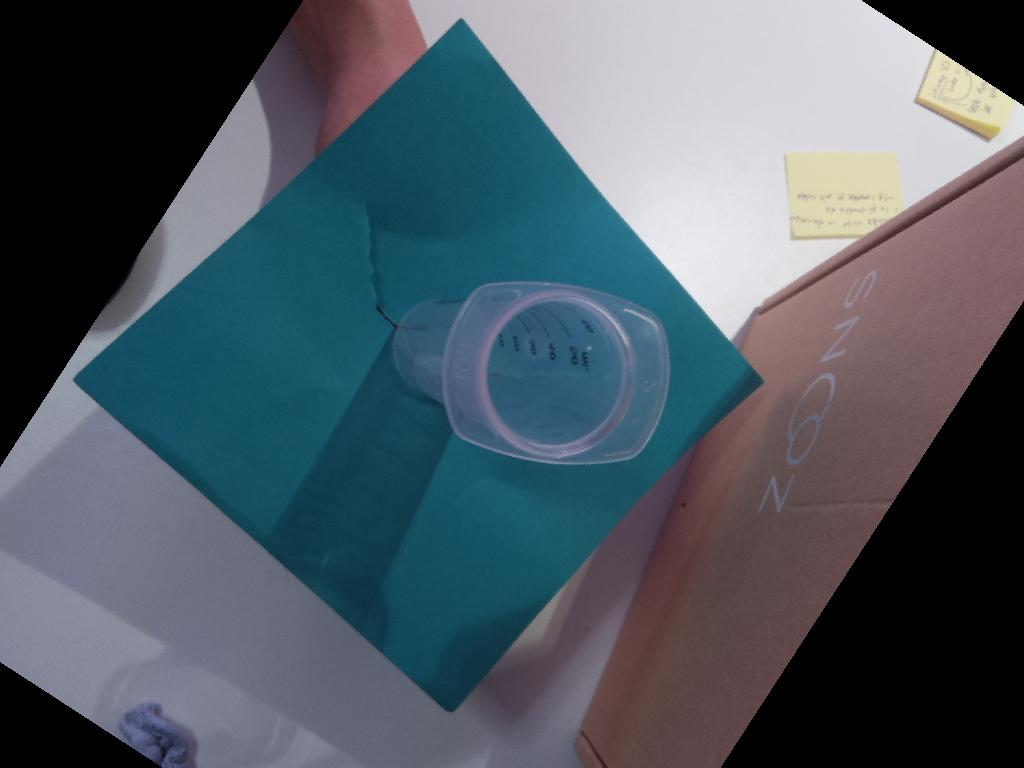clean: (440, 279, 672, 466)
